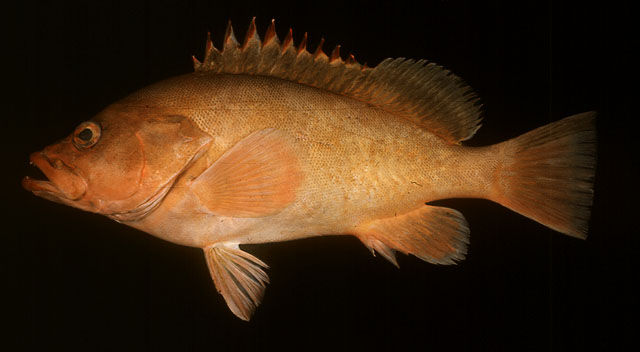fish: (20, 15, 598, 322)
